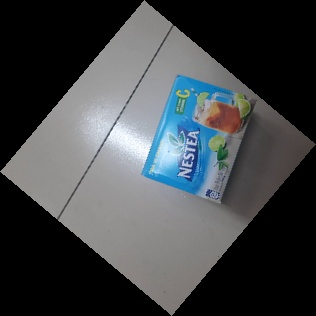Nestea: (140, 74, 260, 206)
